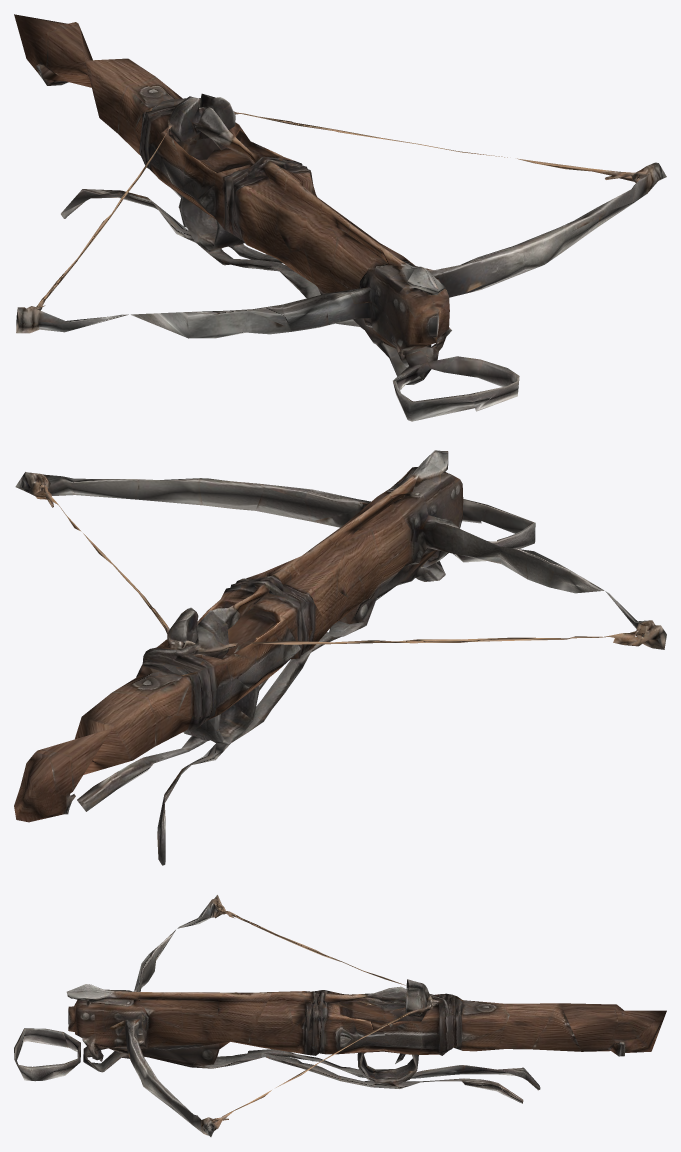
The model's file is 1125_crossbow.glb.
3 renders of one model, top to bottom at view 1: azimuth 30°, elevation 25°; view 2: azimuth 150°, elevation 25°; view 3: azimuth 270°, elevation 25°, orthographic. The views are drawn at different scales.
Visible parts, largest first — view 1: Model; view 2: Model; view 3: Model.
Part boxes in pixels (box(x1,y1,x2,y2)): Model: box(14, 14, 666, 421); Model: box(14, 450, 666, 865); Model: box(14, 895, 666, 1136).
Bounding box in the file's own units: 0.8228 × 0.2133 × 1.
Materials: 1 (1 with a texture image).
